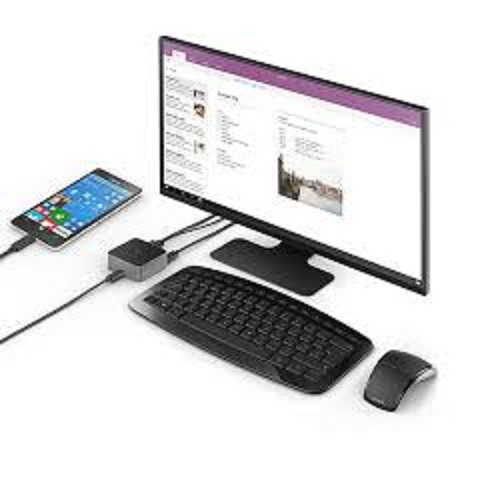Teclado: (126, 263, 376, 397)
